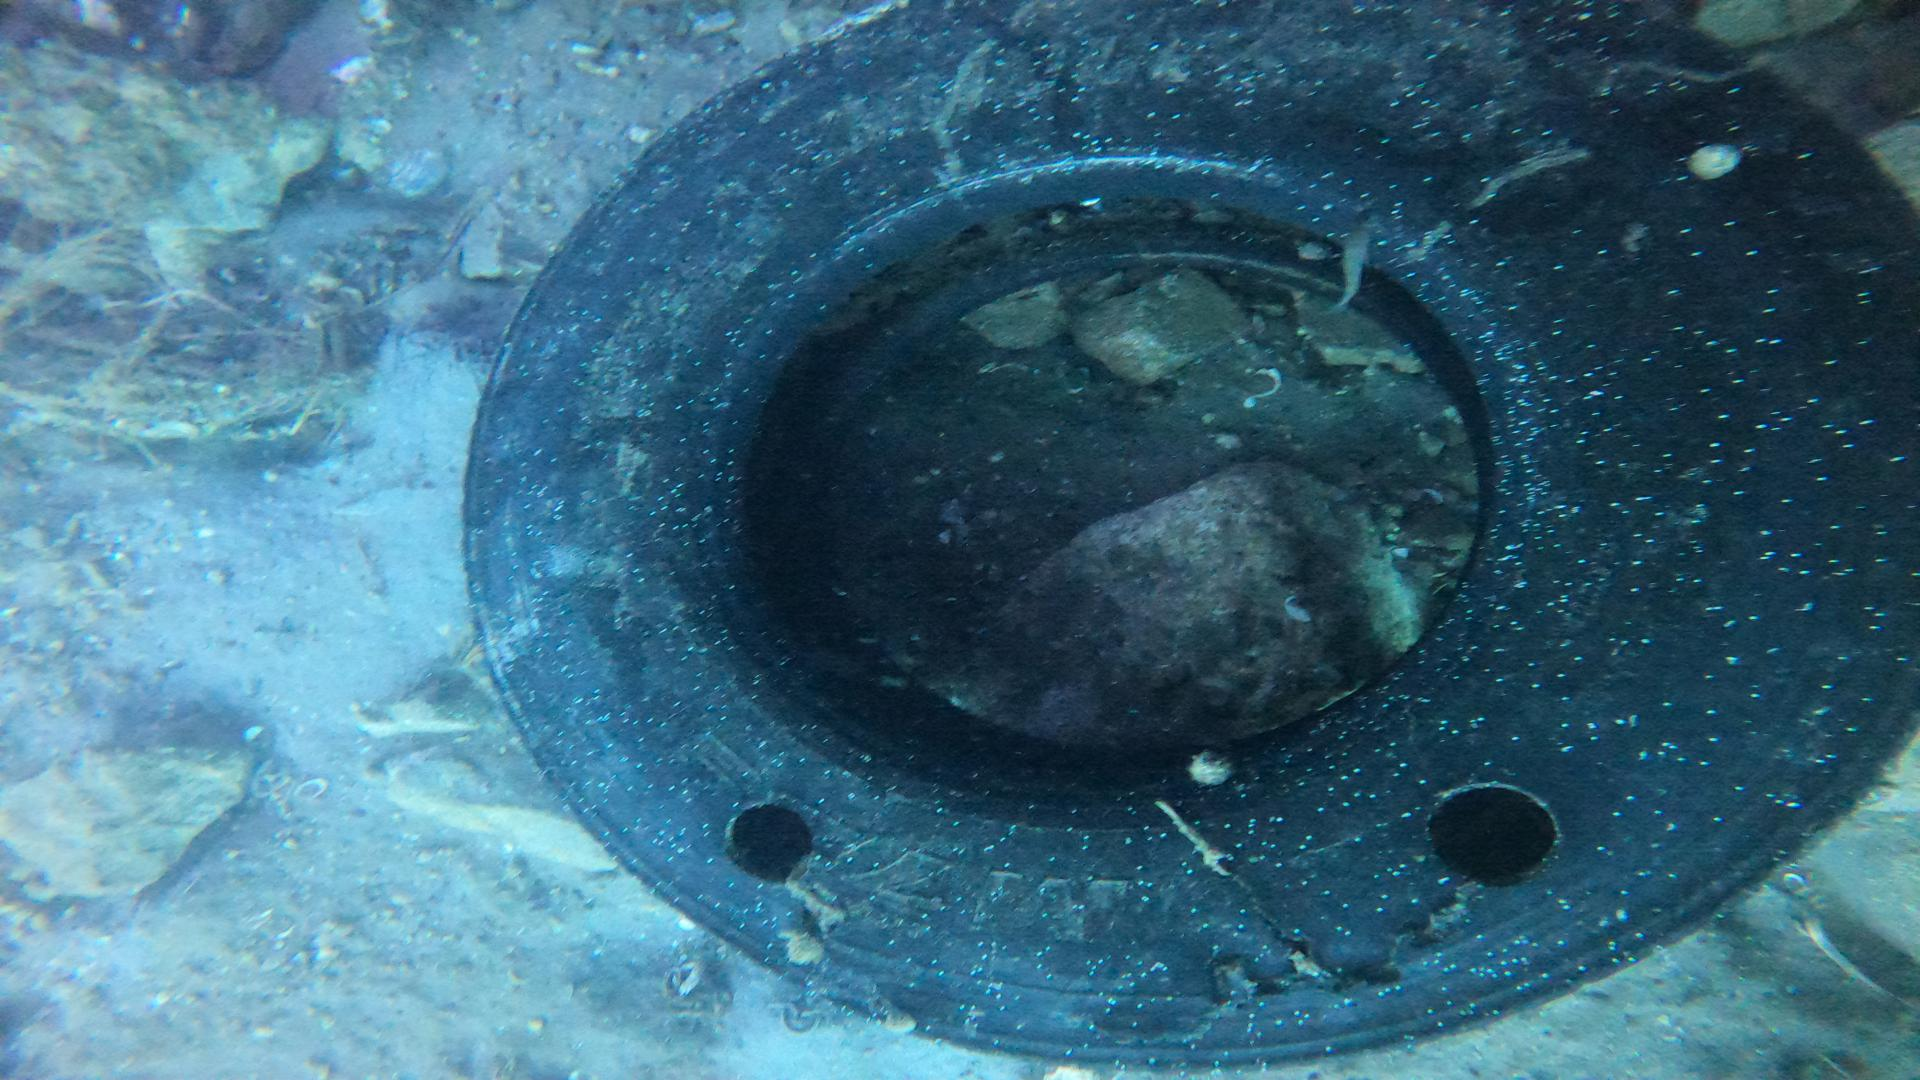tire: (462, 0, 1920, 1064)
